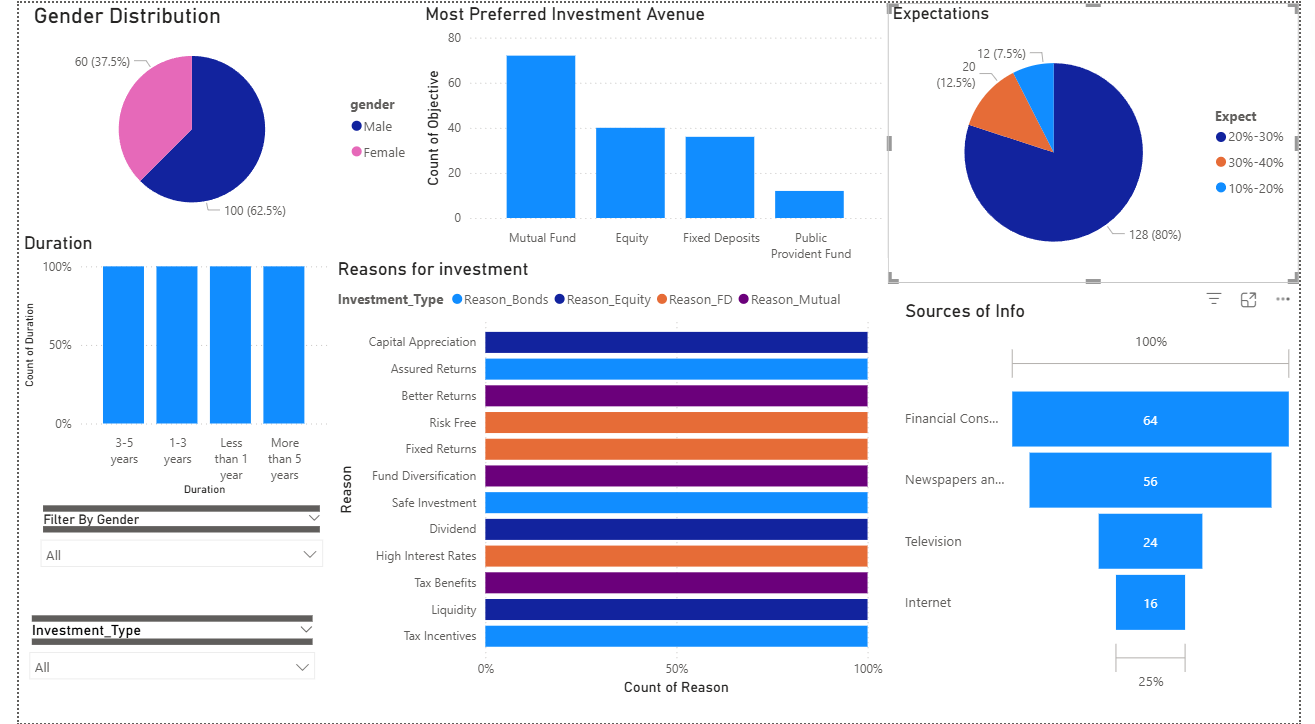

The dashboard page shown, as its layout file describes it:
{"tool":"powerbi","page":{"name":"Page 1","canvas":[1280,720],"ordinal":0},"visuals":[{"type":"pieChart","title":" Gender Distribution","fields":{"Category":["investor_data.gender"],"Y":["CountNonNull(investor_data.gender)"]},"box":[10,0,391.2,228.8],"z":0},{"type":"slicer","fields":{"Values":["investor_data.age","investor_data.gender","investor_data.Investment_Avenues"]},"box":[11.2,497.5,302.5,95],"z":1000},{"type":"columnChart","title":"Most Preferred Investment Avenue","fields":{"Category":["investor_data.Avenue"],"Y":["CountNonNull(investor_data.Objective)"]},"box":[401.2,0,467.5,280],"z":2000},{"type":"funnel","title":" Sources of Info","fields":{"Category":["investor_data.Source"],"Y":["CountNonNull(investor_data.Source)"]},"box":[881.2,297.5,398.8,400],"z":3000},{"type":"pieChart","title":"Expectations","fields":{"Category":["investor_data.Expect"],"Y":["CountNonNull(investor_data.Expect)"]},"box":[868.8,0,411.2,280],"z":4000},{"type":"hundredPercentStackedColumnChart","title":"Duration","fields":{"Category":["investor_data.Duration"],"Y":["CountNonNull(investor_data.Duration)"]},"box":[0,228.8,313.8,268.8],"z":5000},{"type":"hundredPercentStackedBarChart","title":"Reasons for investment","fields":{"Series":["investor_data.Investment_Type"],"Y":["CountNonNull(investor_data.Reason)"],"Category":["investor_data.Reason"]},"box":[313.8,255,555,442.5],"z":6000},{"type":"slicer","fields":{"Values":["investor_data.Investment_Type"]},"box":[0,607.5,306.2,103.8],"z":7000}]}

Visuals, with their boxes in screenshot pixels (x1, y1, x2, y2), scaled from the page's 1280x720 canvas onto the 1315x724 screenshot:
" Gender Distribution" pieChart: detection(10, 0, 412, 230)
slicer - investor_data.age x investor_data.gender: detection(12, 500, 322, 596)
"Most Preferred Investment Avenue" columnChart: detection(412, 0, 892, 282)
" Sources of Info" funnel: detection(905, 299, 1314, 701)
"Expectations" pieChart: detection(893, 0, 1314, 282)
"Duration" hundredPercentStackedColumnChart: detection(0, 230, 322, 500)
"Reasons for investment" hundredPercentStackedBarChart: detection(322, 256, 893, 701)
slicer - investor_data.Investment_Type: detection(0, 611, 315, 715)
